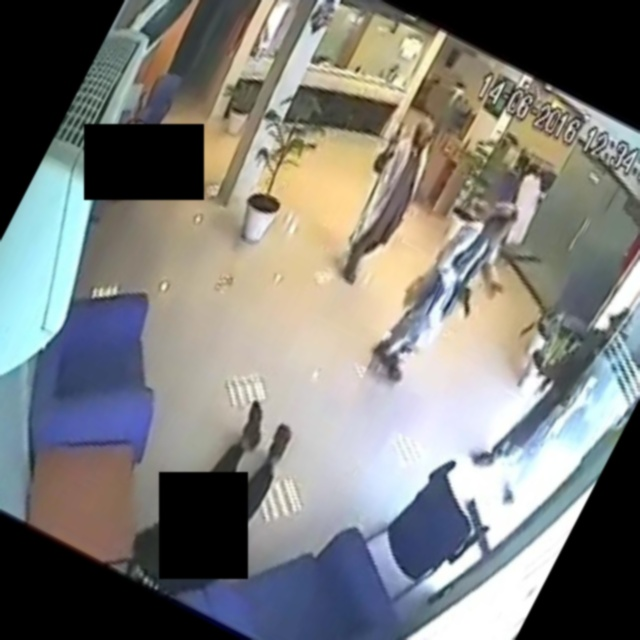gun: (445, 276, 485, 321), (385, 117, 409, 148)
